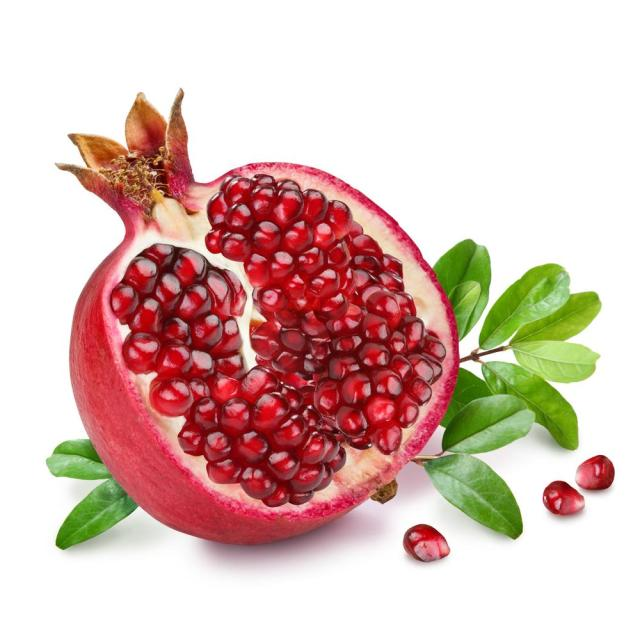Pomegranate: (49, 95, 459, 548), (402, 524, 450, 562), (544, 481, 584, 514)
